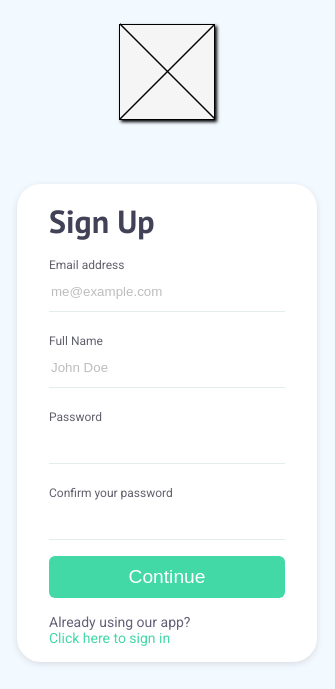
Test Sign Up page › Given user is on sign up page › When user interacts to password field › And enter less than 8 characters › Users sees 'Missing last name' error message
Type "John" into the password field labelled "Password" at (167, 444), box [49, 424, 285, 464]
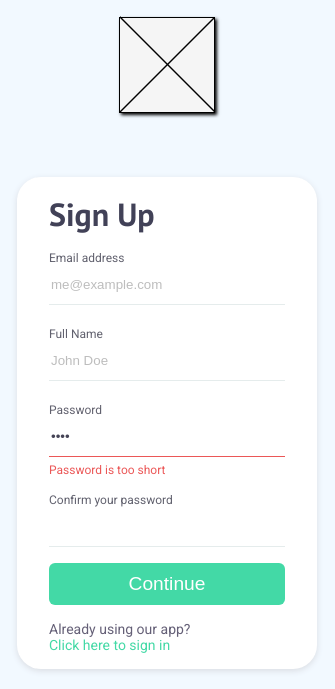
Result: the text "Password is too short" is shown at [49, 463, 166, 477]
